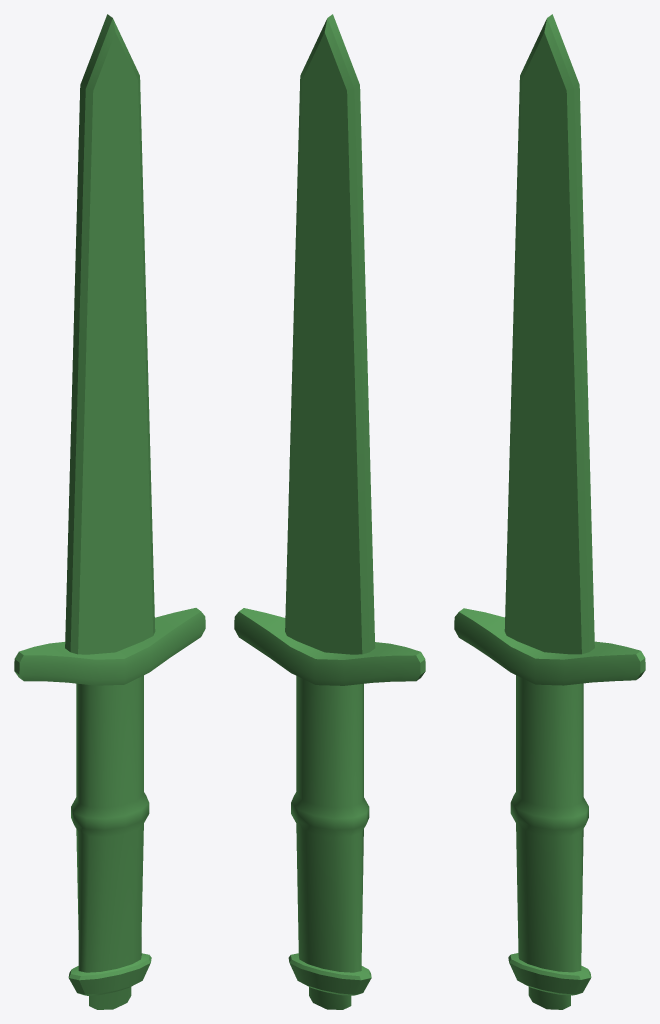
The model's file is Sword_1.fbx.
3 views of the same model, side by side, from view 1: azimuth 30°, elevation 25°; view 2: azimuth 150°, elevation 25°; view 3: azimuth 330°, elevation 25° (orthographic).
Visible parts, largest first — view 1: M1; view 2: M1; view 3: M1.
Part boxes in pixels (x1,y1,x2,y2): M1: (14,14,205,1009); M1: (234,14,425,1009); M1: (454,14,645,1009).
Bounding box in the file's own units: 51.28 × 261 × 14.71.
